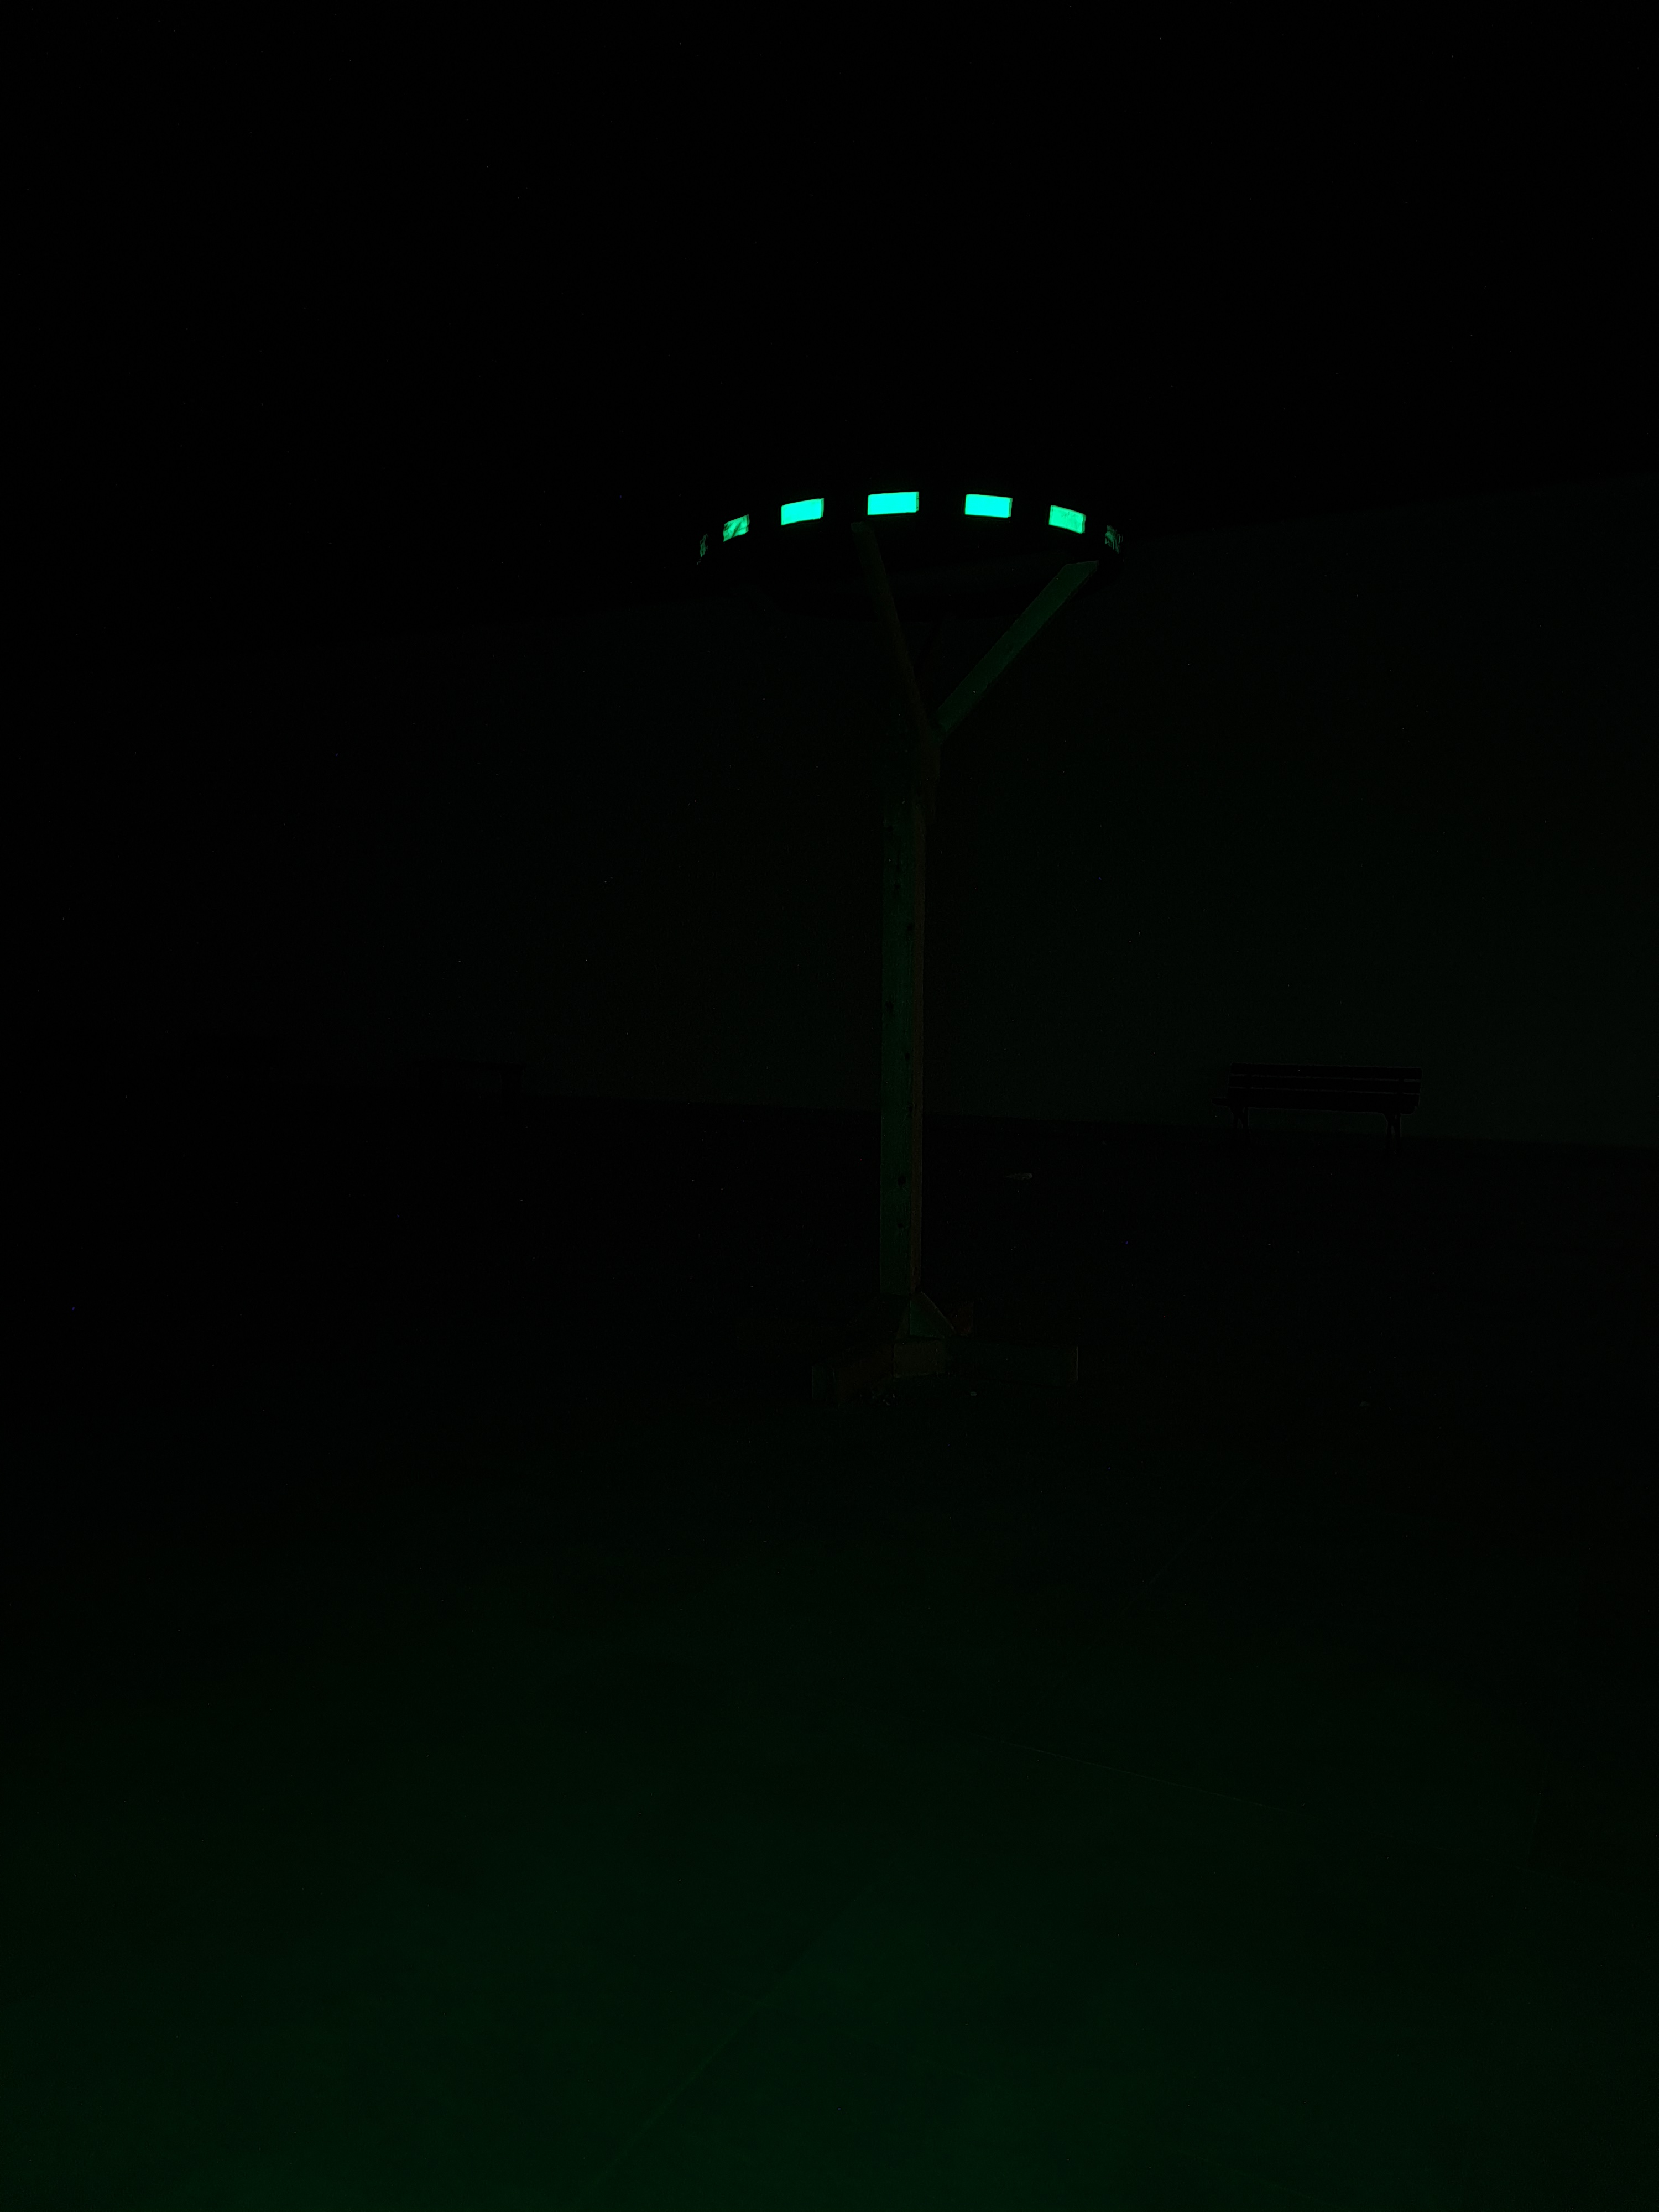hoop: (701, 489, 1122, 556)
